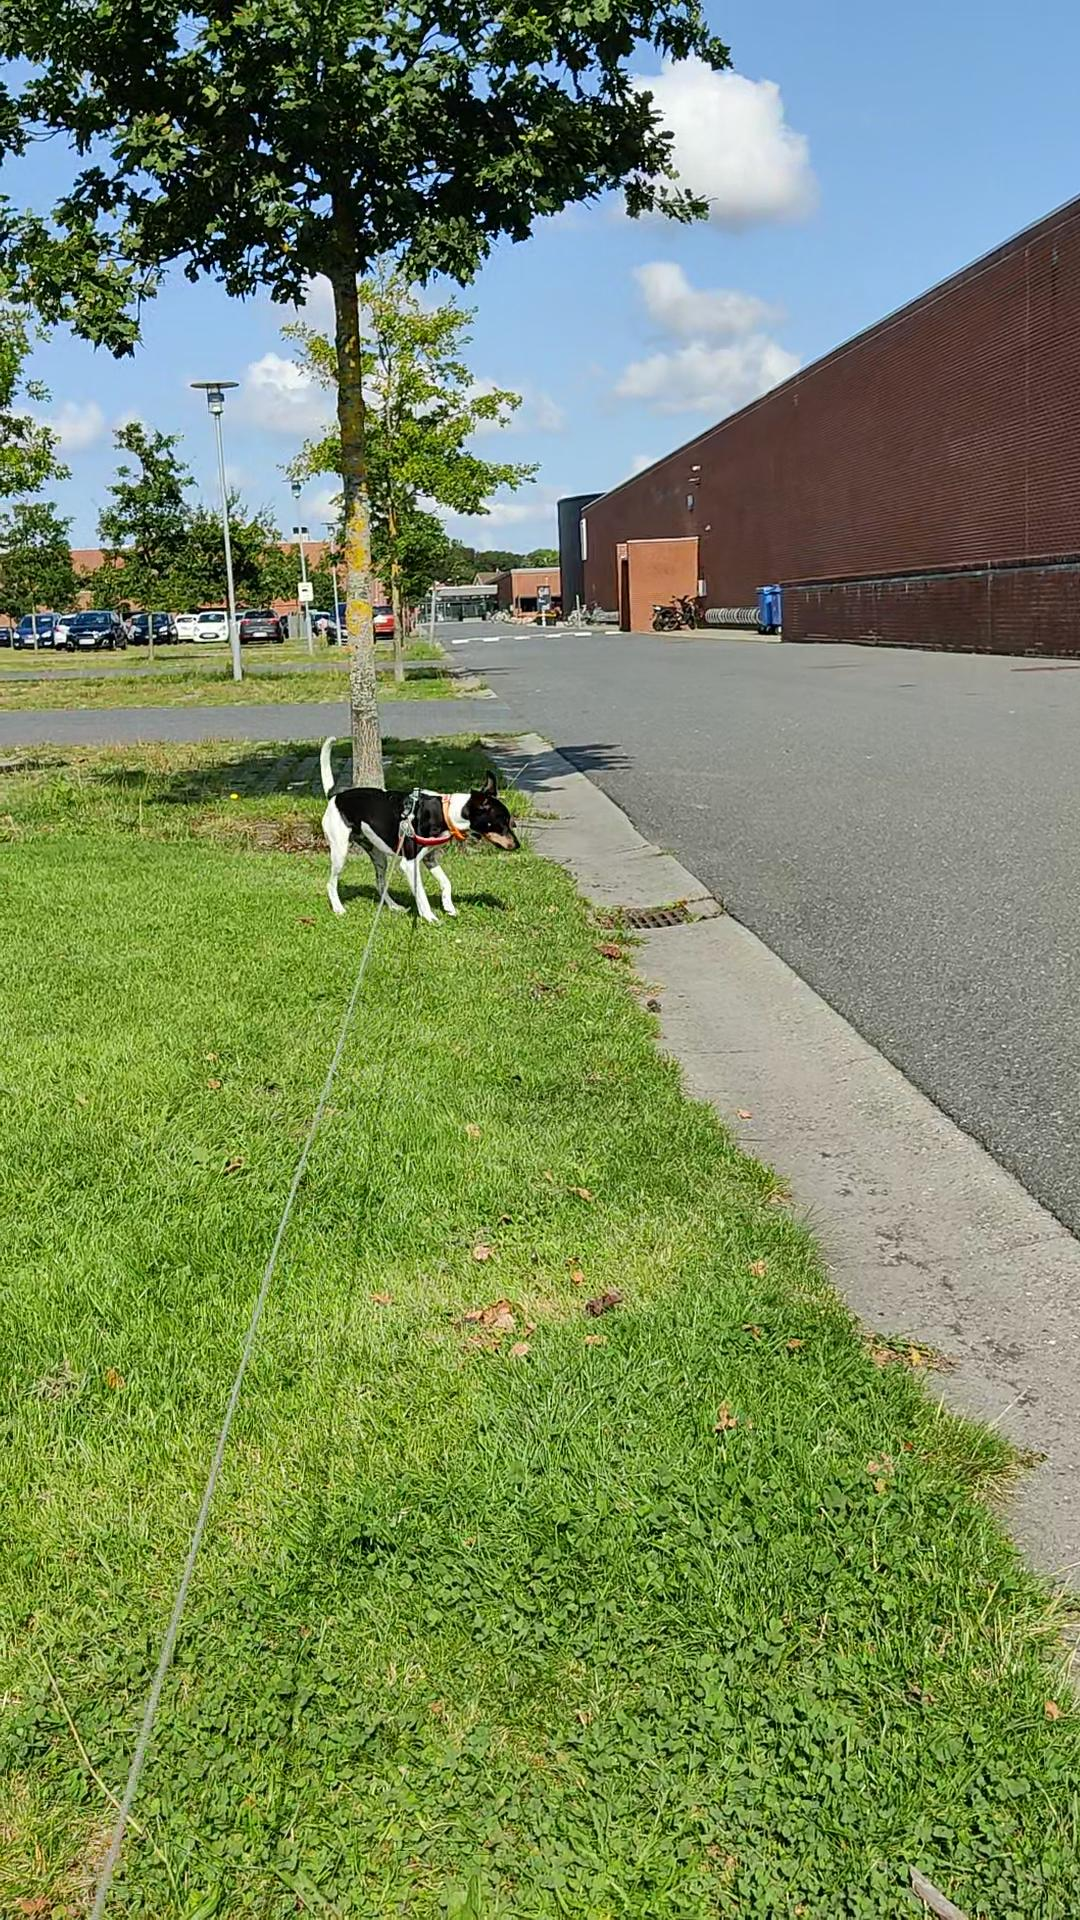Dog: (319, 735, 521, 926)
